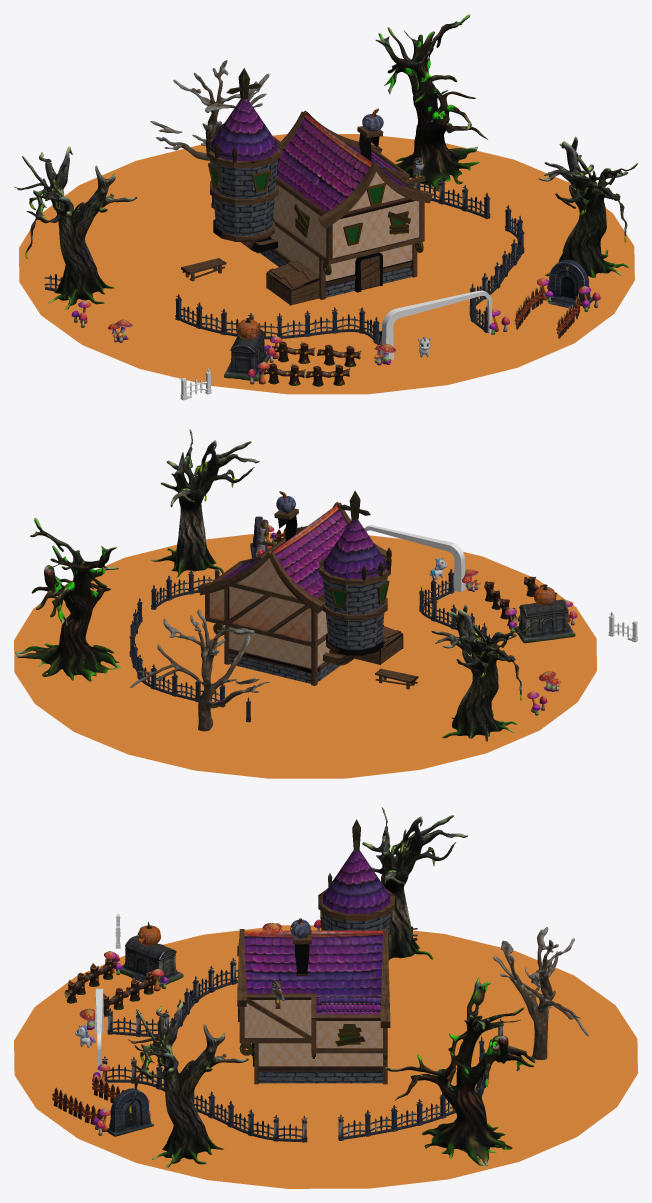
Rendered from cabana-transformed.glb.
3 views of the same model, one above another, from view 1: azimuth 30°, elevation 25°; view 2: azimuth 150°, elevation 25°; view 3: azimuth 270°, elevation 25° (orthographic). The views are drawn at different scales.
Parts seen in each view (by area): view 1: Mesh99 Group92 Model, pared parte arriba.002, mesh.004, Mesh58 Group56 Model, mesh, pared parte arriba.003, mesh.001, Mesh45 __Round__1 Model.002, Mesh102 Group96 Group95 Model.001, Mesh45 __Round__1 Model.001, Mesh39 __Square__5 Model, mesh.011 (+15 smaller); view 2: Mesh99 Group92 Model, mesh.004, pared parte arriba.002, Mesh58 Group56 Model, mesh, mesh.001, pared parte arriba.003, mesh.011, Mesh45 __Round__1 Model.002, Mesh45 __Round__1 Model.001, mesh.007, Mesh39 __Square__5 Model (+8 smaller); view 3: Mesh99 Group92 Model, pared parte arriba.003, mesh.004, mesh.001, pared parte arriba.002, Mesh58 Group56 Model, mesh, mesh.011, Mesh45 __Round__1 Model.001, Mesh102 Group96 Group95 Model.002, mesh.007, Mesh102 Group96 Group95 Model.003 (+7 smaller).
Boxes of the visible parts, left/top/right/bottom form: Mesh99 Group92 Model: left=19, top=134, right=634, bottom=394; pared parte arriba.002: left=271, top=171, right=419, bottom=281; mesh.004: left=375, top=14, right=487, bottom=191; Mesh58 Group56 Model: left=256, top=110, right=432, bottom=299; mesh: left=14, top=146, right=137, bottom=309; pared parte arriba.003: left=277, top=114, right=407, bottom=212; mesh.001: left=538, top=136, right=637, bottom=277; Mesh45 __Round__1 Model.002: left=210, top=159, right=278, bottom=235; Mesh102 Group96 Group95 Model.001: left=179, top=302, right=381, bottom=344; Mesh45 __Round__1 Model.001: left=211, top=98, right=277, bottom=160; Mesh39 __Square__5 Model: left=206, top=136, right=281, bottom=252; mesh.011: left=150, top=60, right=269, bottom=160; Mesh99 Group92 Model: left=14, top=532, right=596, bottom=778; mesh.004: left=15, top=518, right=120, bottom=681; pared parte arriba.002: left=210, top=558, right=329, bottom=668; Mesh58 Group56 Model: left=197, top=502, right=391, bottom=685; mesh: left=431, top=604, right=530, bottom=738; mesh.001: left=151, top=429, right=259, bottom=577; pared parte arriba.003: left=221, top=505, right=347, bottom=597; mesh.011: left=130, top=609, right=270, bottom=731; Mesh45 __Round__1 Model.002: left=322, top=577, right=387, bottom=649; Mesh45 __Round__1 Model.001: left=323, top=520, right=386, bottom=578; mesh.007: left=515, top=599, right=575, bottom=643; Mesh39 __Square__5 Model: left=319, top=555, right=390, bottom=665; Mesh99 Group92 Model: left=14, top=925, right=637, bottom=1188; pared parte arriba.003: left=244, top=930, right=382, bottom=1014; mesh.004: left=384, top=977, right=535, bottom=1165; mesh.001: left=128, top=1003, right=248, bottom=1167; pared parte arriba.002: left=244, top=1000, right=382, bottom=1066; Mesh58 Group56 Model: left=237, top=929, right=390, bottom=1084; mesh: left=362, top=807, right=467, bottom=960; mesh.011: left=493, top=927, right=588, bottom=1059; Mesh45 __Round__1 Model.001: left=323, top=850, right=390, bottom=913; Mesh102 Group96 Group95 Model.002: left=102, top=1056, right=302, bottom=1141; mesh.007: left=116, top=935, right=183, bottom=987; Mesh102 Group96 Group95 Model.003: left=343, top=1036, right=485, bottom=1139.
Size of the model in its own units: 26.14 by 10.73 by 26.14.
Materials: 25 (24 with a texture image).
